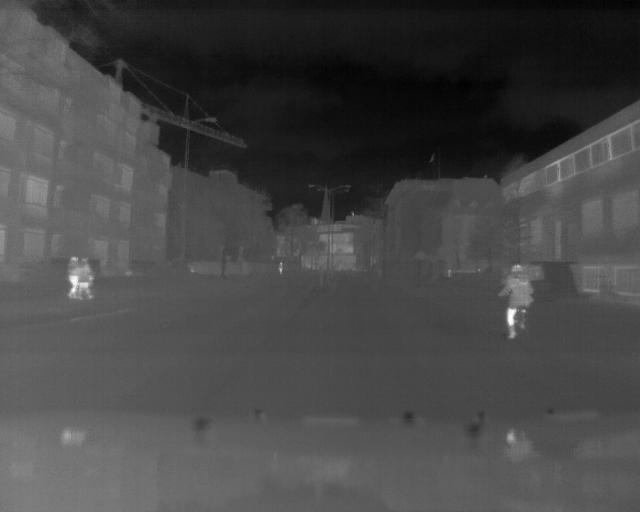person: (500, 262, 532, 339), (63, 250, 81, 296), (81, 256, 94, 299), (277, 258, 285, 276)
